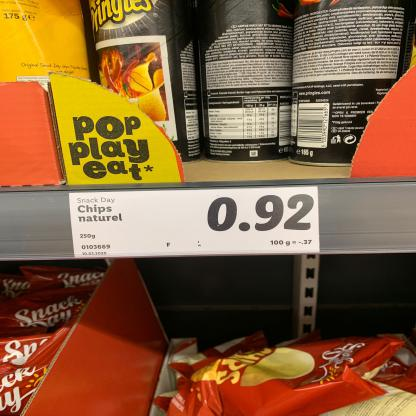prtg: (70, 188, 320, 259)
